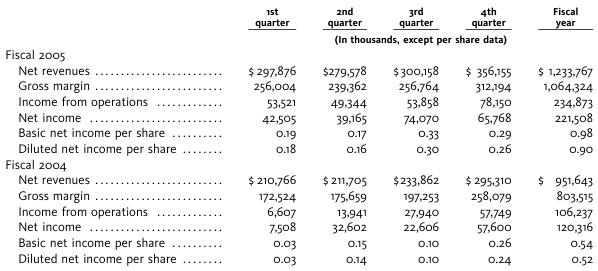table: (4, 4, 592, 264)
table column: (4, 4, 211, 264), (211, 4, 308, 264), (379, 4, 451, 264), (451, 4, 523, 264), (308, 4, 379, 264), (523, 4, 592, 264)
table column header: (4, 4, 592, 45)
table projected row header: (4, 45, 592, 61), (4, 155, 592, 171)
table row: (4, 4, 592, 30), (4, 45, 592, 61), (4, 61, 592, 77), (4, 92, 592, 108), (4, 108, 592, 124), (4, 124, 592, 140), (4, 155, 592, 171), (4, 171, 592, 187), (4, 202, 592, 218), (4, 218, 592, 234), (4, 30, 592, 45), (4, 77, 592, 92), (4, 140, 592, 155), (4, 187, 592, 202), (4, 234, 592, 249), (4, 249, 592, 264)
table spanning cell: (211, 30, 592, 45)
